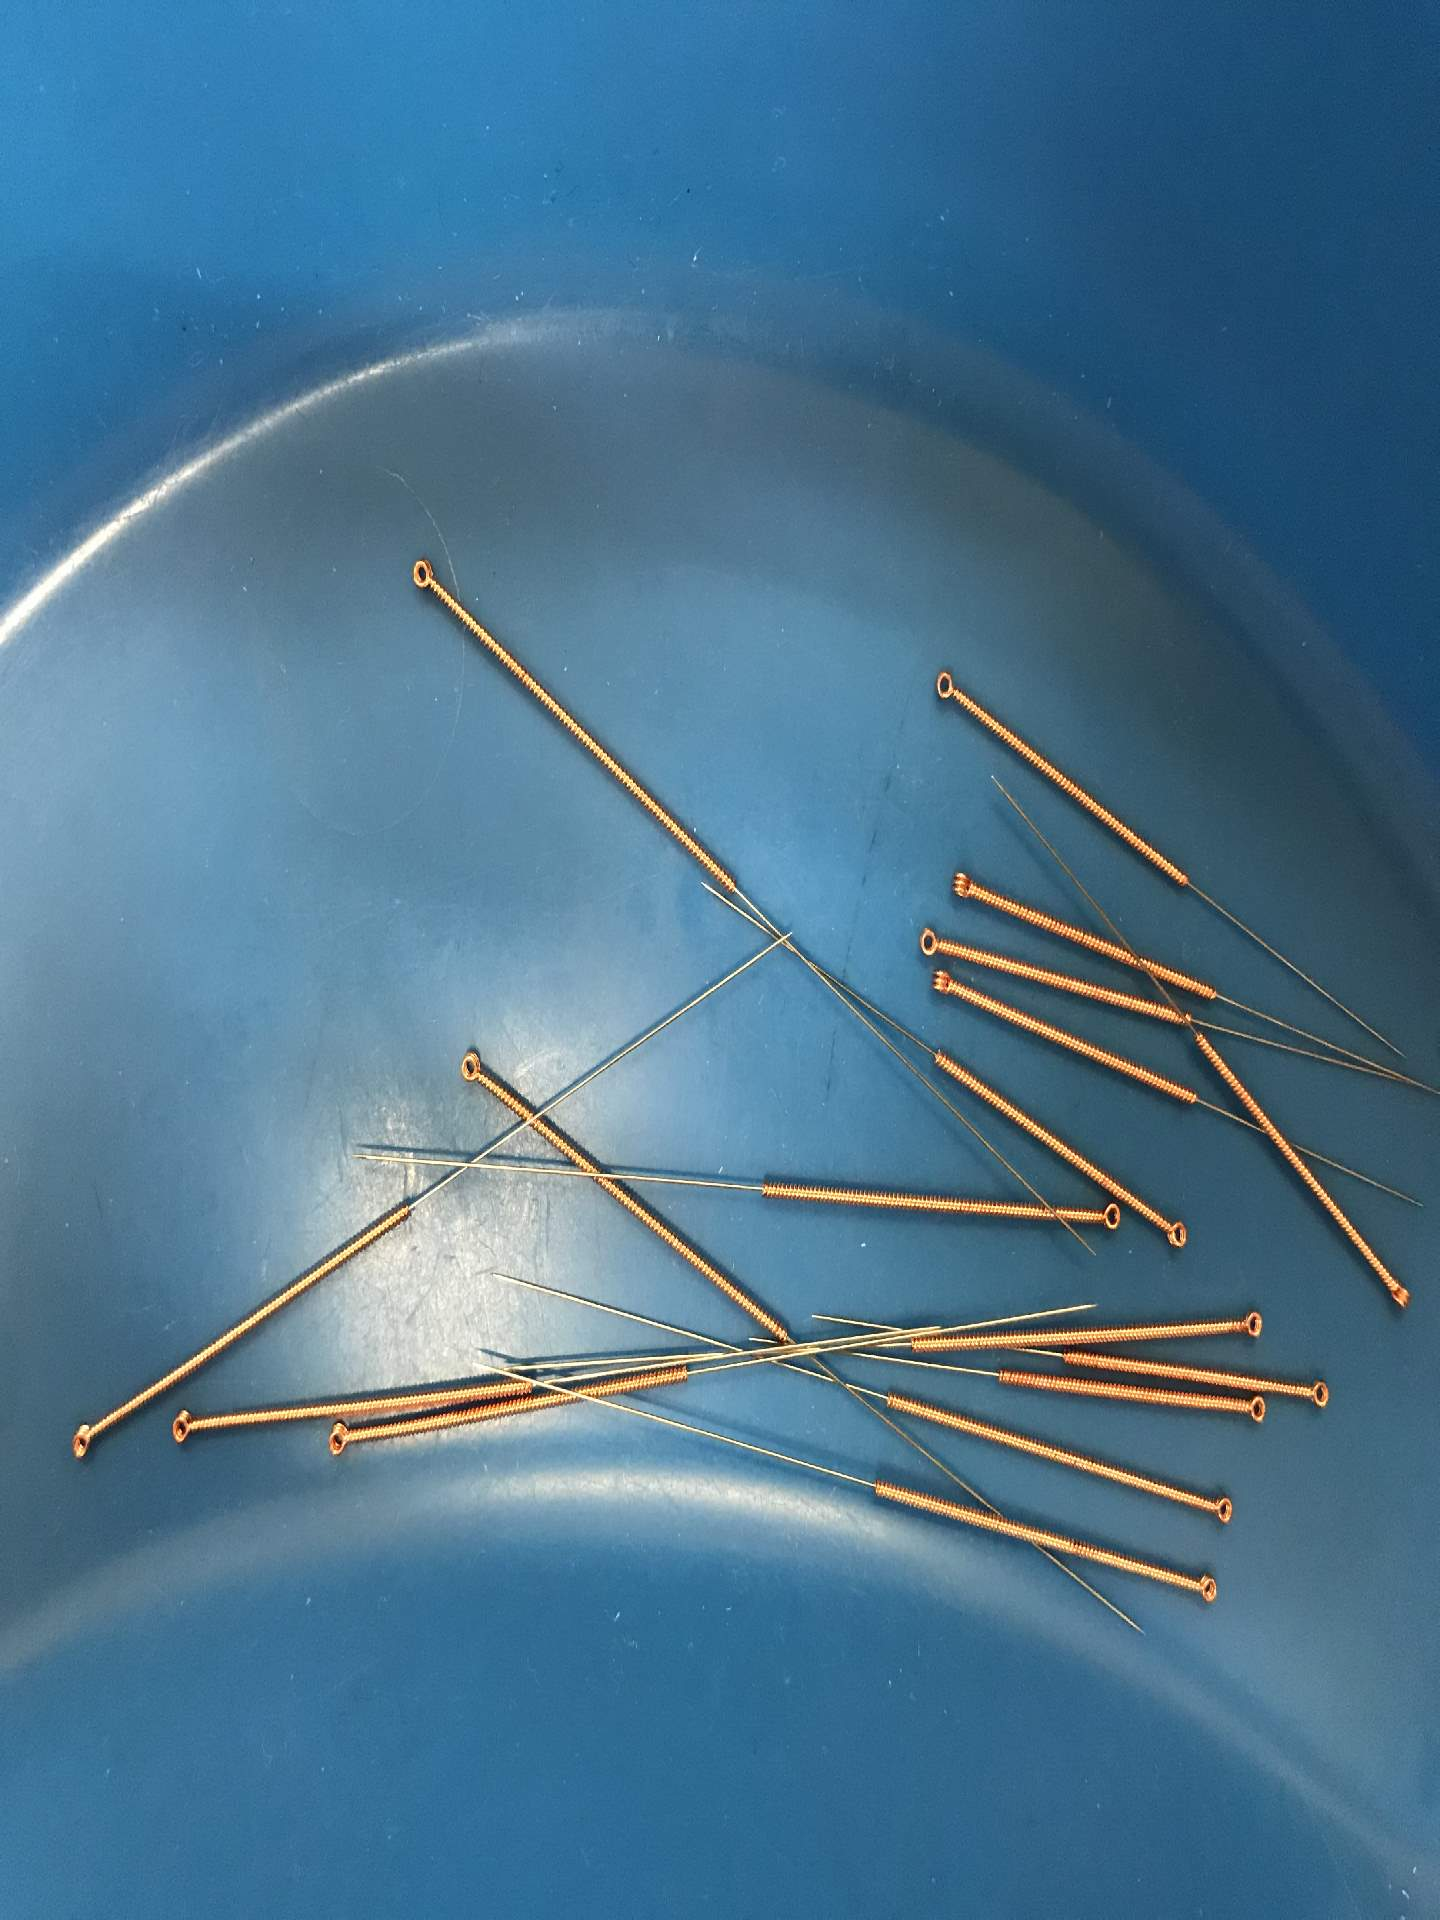needle: (1287, 1362, 1343, 1423), (1219, 1294, 1275, 1350), (1175, 1559, 1228, 1618), (57, 1412, 107, 1471), (1372, 1262, 1420, 1323), (1190, 1480, 1243, 1534), (1145, 1206, 1199, 1259), (399, 550, 451, 606), (449, 1040, 498, 1098), (312, 1417, 365, 1466), (920, 661, 968, 715), (936, 862, 988, 912), (915, 962, 970, 1008), (905, 918, 956, 966), (160, 1403, 207, 1451), (1221, 1389, 1274, 1432), (1088, 1197, 1127, 1243)
